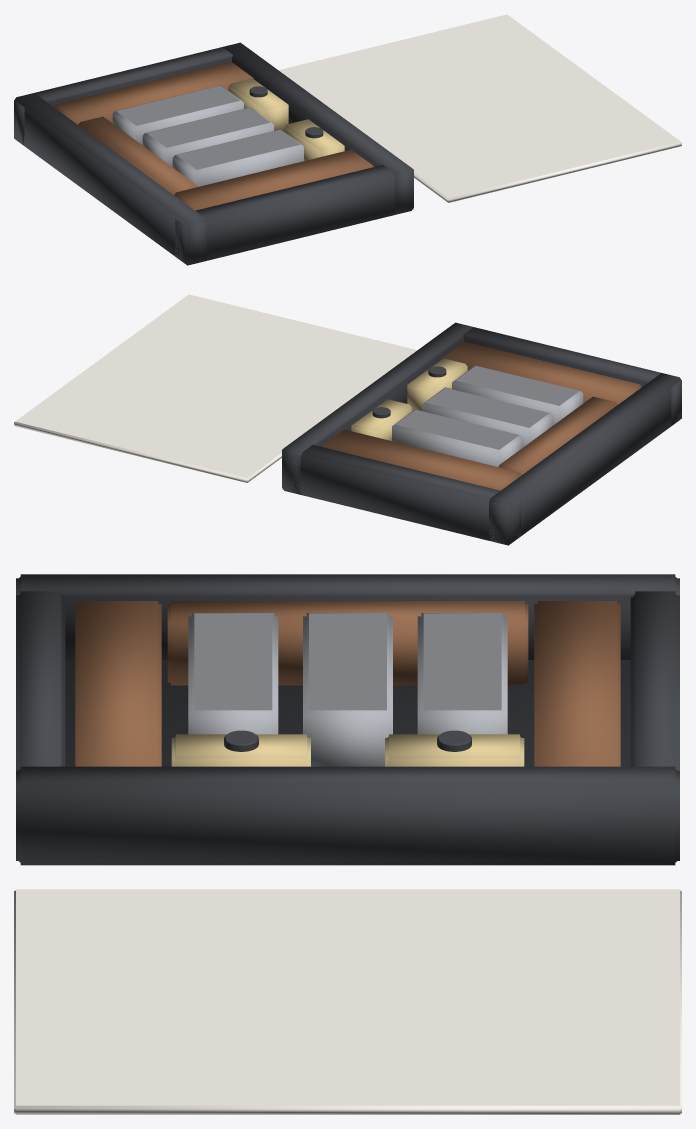
File: letterpress-lockup.glb
3 renders of one model, top to bottom at view 1: azimuth 30°, elevation 25°; view 2: azimuth 150°, elevation 25°; view 3: azimuth 270°, elevation 25°, orthographic. The views are drawn at different scales.
Parts seen in each view (by area): view 1: CottonProofFace, ChaseLeft, ChaseBot, ChaseRight, WoodBot, WoodTop, ChaseTop, WoodLeft, SlugBar2, SlugFace1, SlugFace0, SlugFace2 (+5 smaller); view 2: CottonProofFace, ChaseTop, ChaseLeft, ChaseRight, WoodTop, WoodBot, ChaseBot, WoodLeft, SlugBar0, SlugFace1, SlugFace0, SlugFace2 (+5 smaller); view 3: CottonProofFace, ChaseRight, ChaseLeft, WoodBot, WoodTop, WoodLeft, ChaseBot, ChaseTop, PressBed, SlugFace0, SlugFace2, SlugFace1 (+6 smaller).
Part boxes in pixels (box(x1,y1,x2,y2)): CottonProofFace: box(278, 14, 680, 197); ChaseLeft: box(14, 93, 206, 265); ChaseBot: box(175, 165, 412, 263); ChaseRight: box(223, 42, 413, 214); WoodBot: box(174, 149, 373, 210); WoodTop: box(54, 61, 253, 124); ChaseTop: box(14, 47, 232, 144); WoodLeft: box(78, 116, 197, 194); SlugBar2: box(172, 129, 303, 186); SlugFace1: box(146, 107, 270, 147); SlugFace0: box(116, 86, 239, 125); SlugFace2: box(176, 129, 300, 169); CottonProofFace: box(15, 294, 417, 477); ChaseTop: box(283, 445, 520, 543); ChaseLeft: box(489, 373, 681, 545); ChaseRight: box(282, 322, 472, 494); WoodTop: box(322, 429, 521, 490); WoodBot: box(442, 341, 641, 404); ChaseBot: box(463, 327, 681, 425); WoodLeft: box(498, 396, 617, 474); SlugBar0: box(392, 409, 523, 466); SlugFace1: box(425, 387, 549, 427); SlugFace0: box(395, 409, 519, 449); SlugFace2: box(456, 366, 579, 405); CottonProofFace: box(16, 889, 679, 1105); ChaseRight: box(16, 766, 679, 865); ChaseLeft: box(16, 574, 679, 659); WoodBot: box(75, 601, 161, 766); WoodTop: box(534, 601, 620, 766); WoodLeft: box(167, 601, 528, 685); ChaseBot: box(16, 591, 65, 861); ChaseTop: box(630, 591, 679, 770); PressBed: box(65, 660, 630, 766); SlugFace0: box(423, 613, 501, 710); SlugFace2: box(194, 613, 272, 710); SlugFace1: box(309, 613, 386, 710).
Size of the model in its own units: 5.33 by 0.504 by 3.26.
